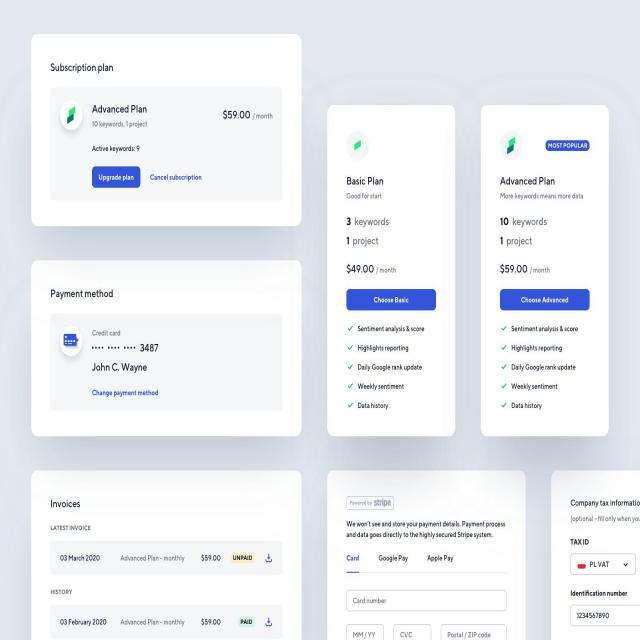button: (346, 288, 436, 312), (500, 288, 590, 312), (90, 165, 142, 189)
input: (346, 589, 508, 612)
select: (570, 553, 636, 576)
